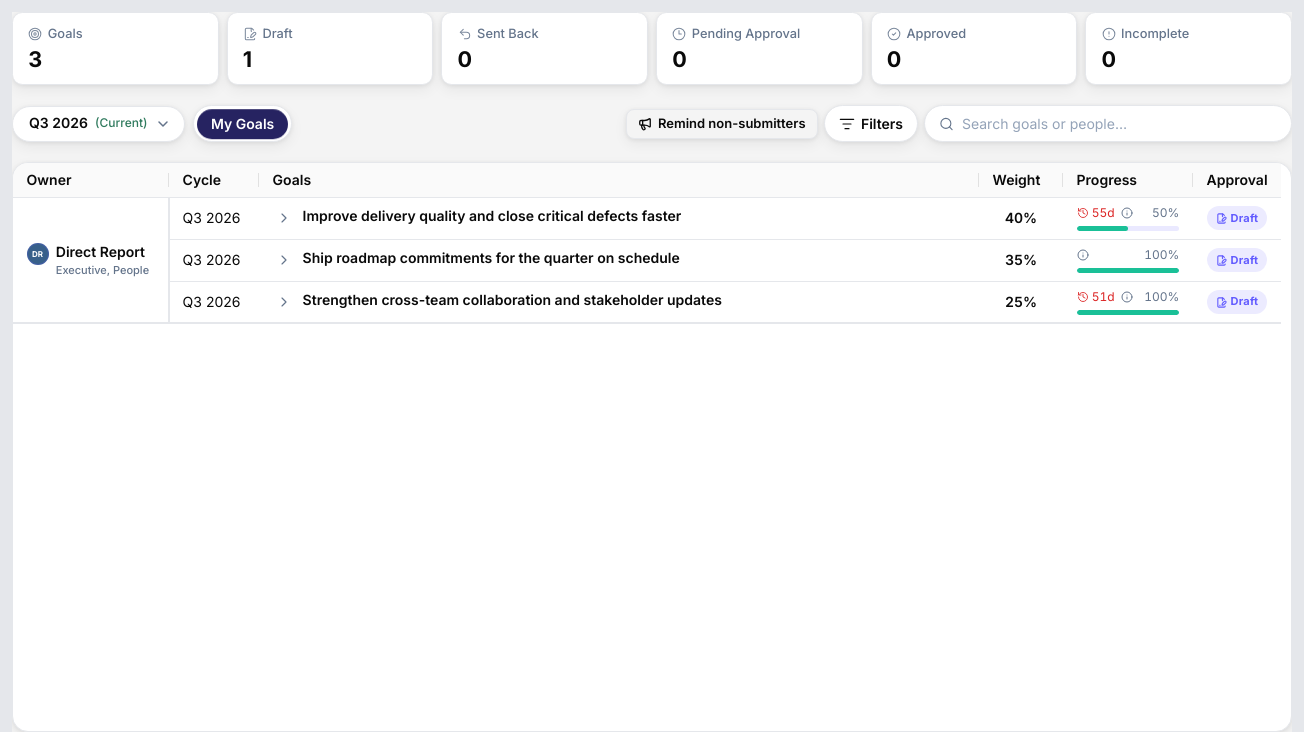
Test: Goals overview cycle eligibility › expands nested measures from the goal row arrow
The width and height of the screenshot is (1304, 732).
Expected: the text "Defects closed" is not shown
Expected: the text "Quality process" is not shown
Click the button named "Expand Improve delivery quality and close critical defects f" at {"x": 284, "y": 218}, box [273,207,295,229]
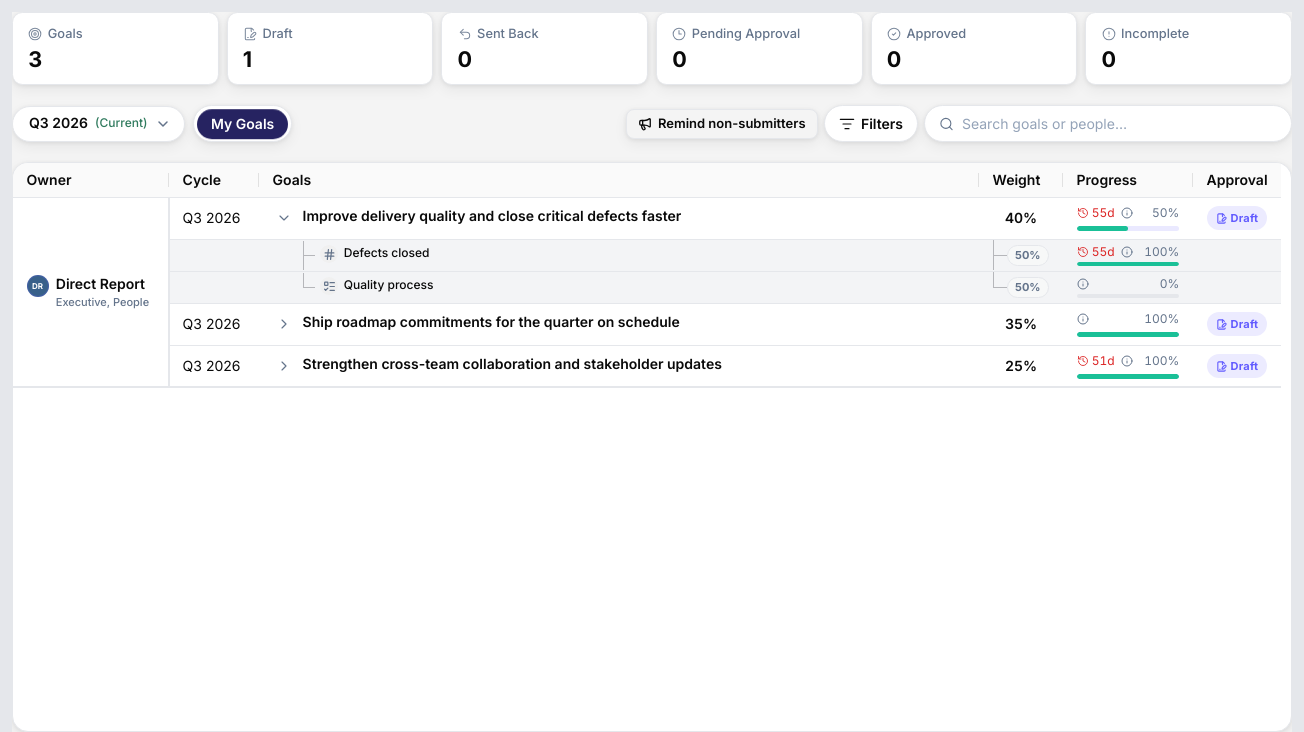
Result: the text "Defects closed" is shown at [344,245,430,261]
Result: the text "Quality process" is shown at [344,277,434,293]
Result: the picture named "Metric" is shown at [320,245,338,263]
